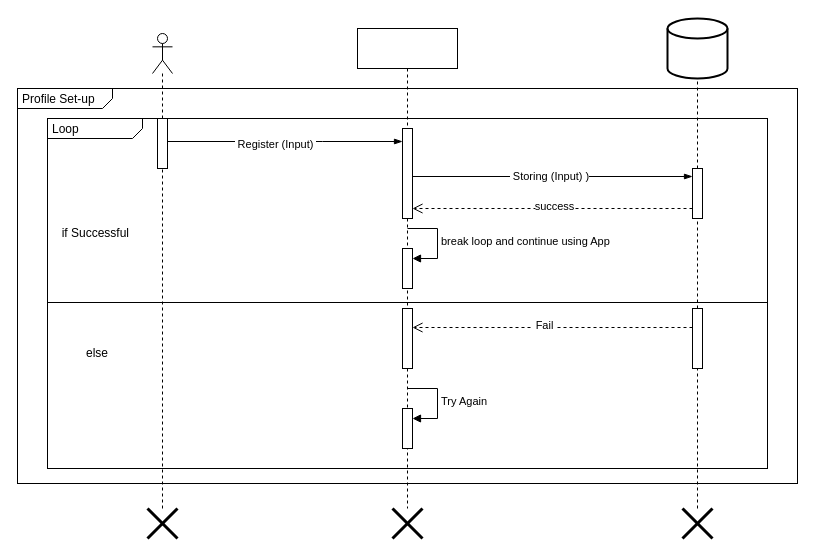
The diagram is 815 pixels wide and 557 high, and some of its shapes have lost their labels. The shapes that lost their labels are listed below. From the top down, each one's centre as x and y in pixels, then its label:
pixel 697 48: Local DataBase
pixel 407 268: AndroCom Application
